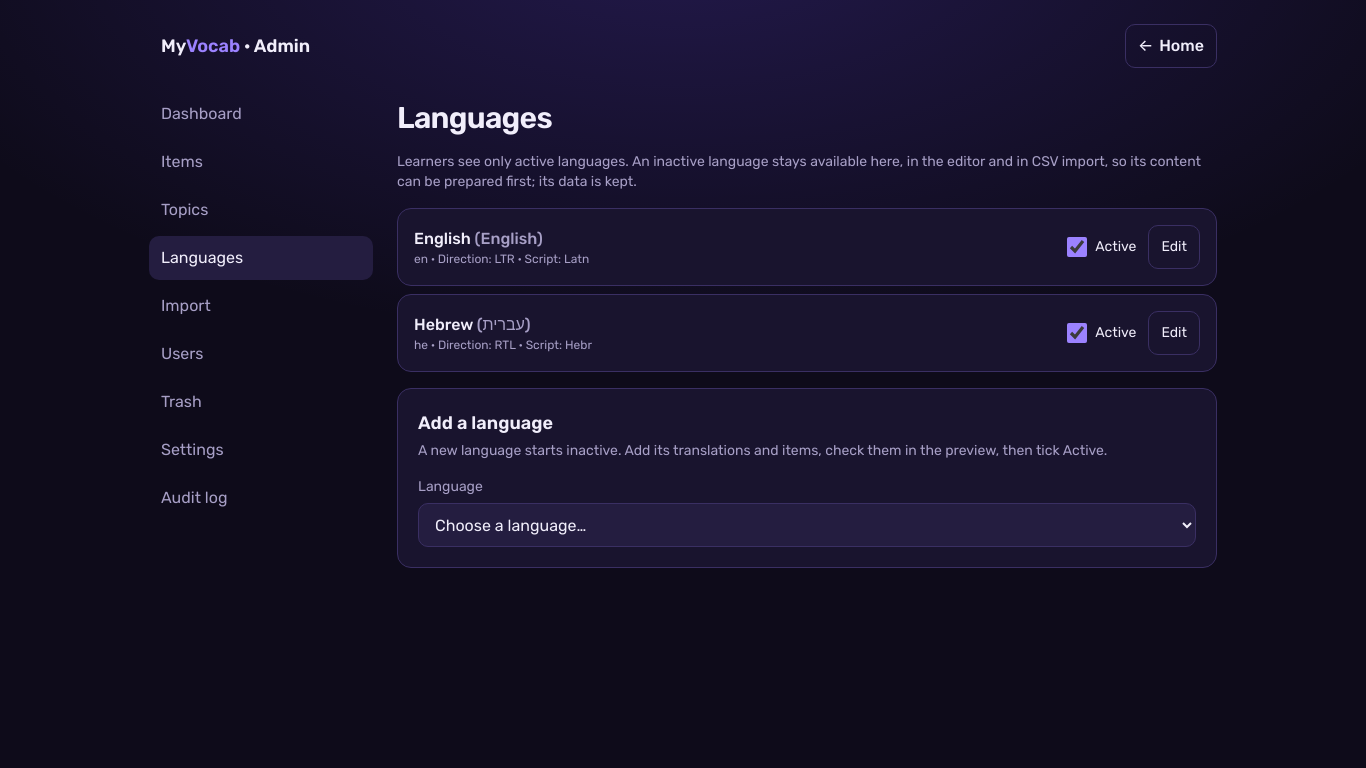
it: LanguagesPage (FR-A35, D-027) › renames a language
Click the button with aria-label "Edit Hebrew" at (1174, 333), box [1148,311,1200,355]
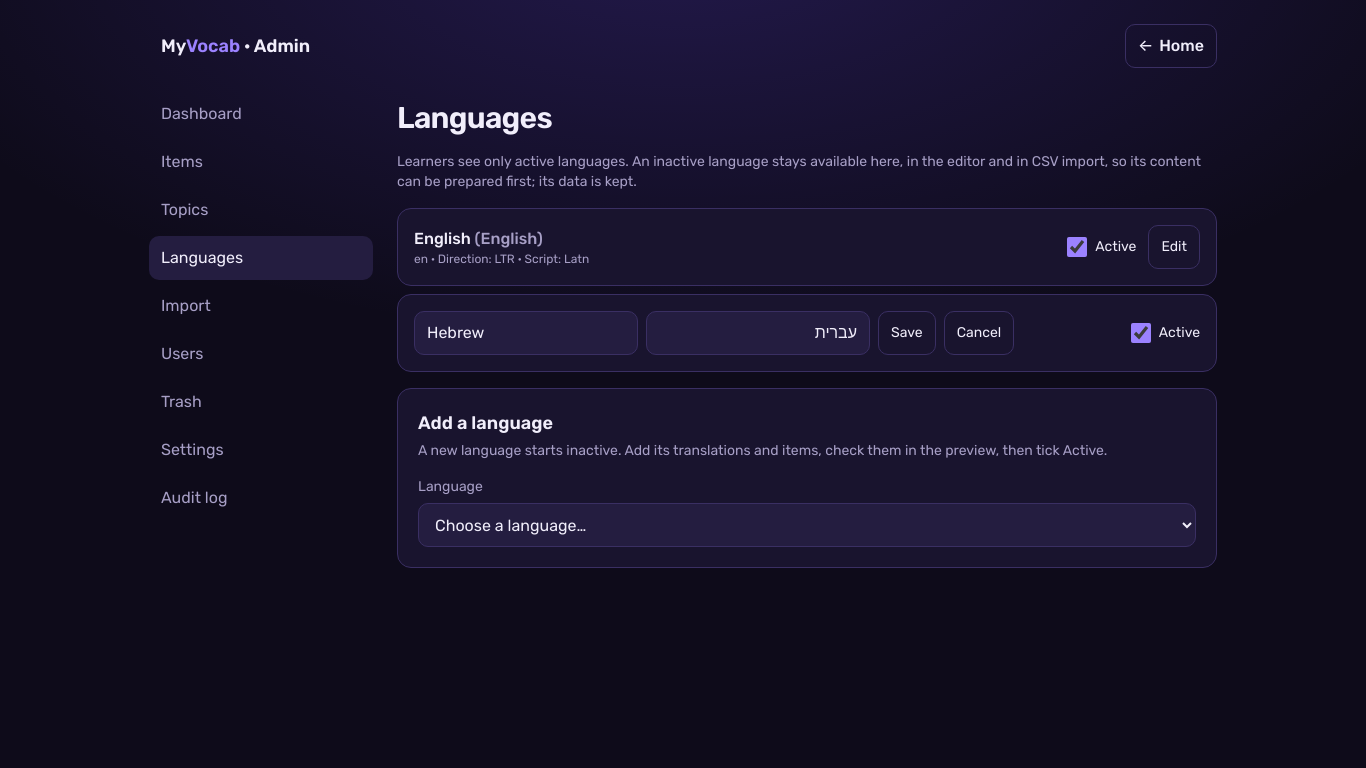
Replace the text in the field named "Name (in English)" with "Modern Hebrew" at (526, 333), box [414,311,638,355]
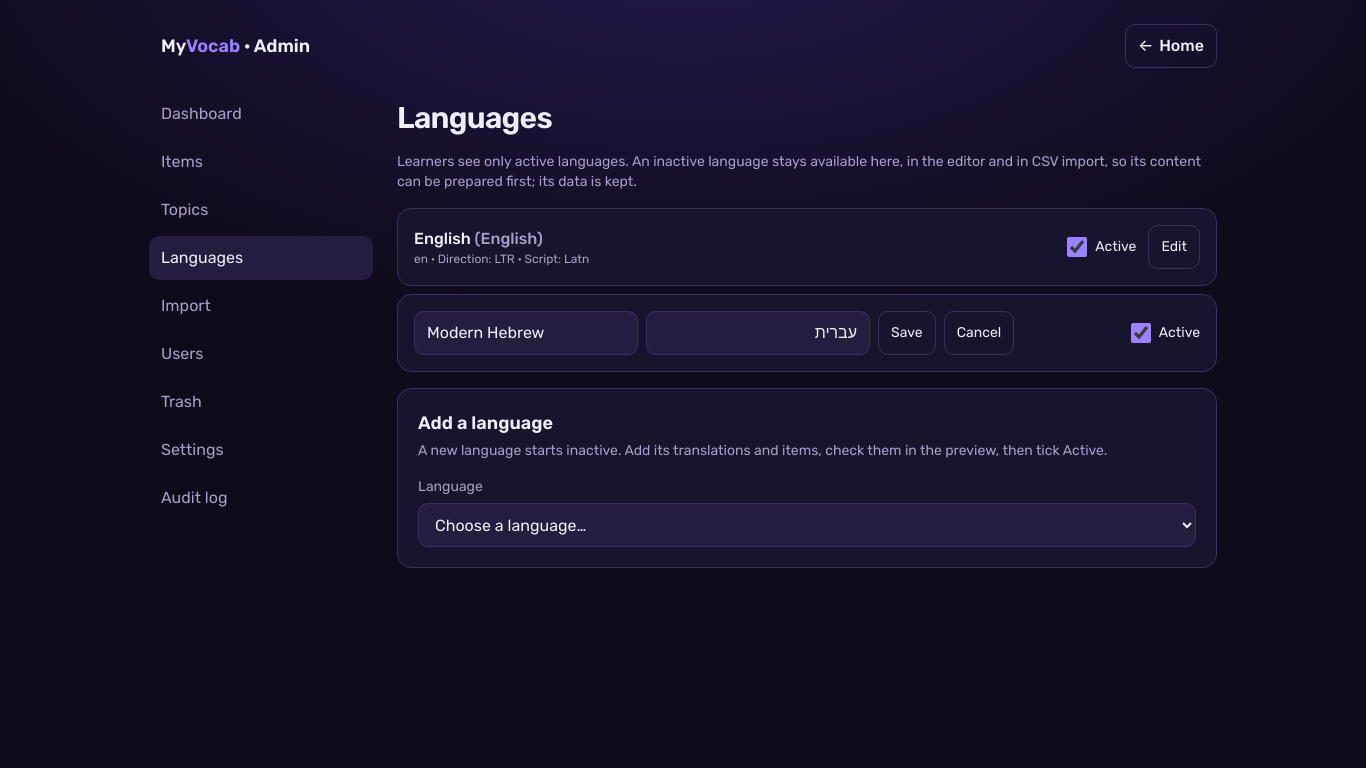
Click the button "Save" at (907, 333), box [878,311,936,355]
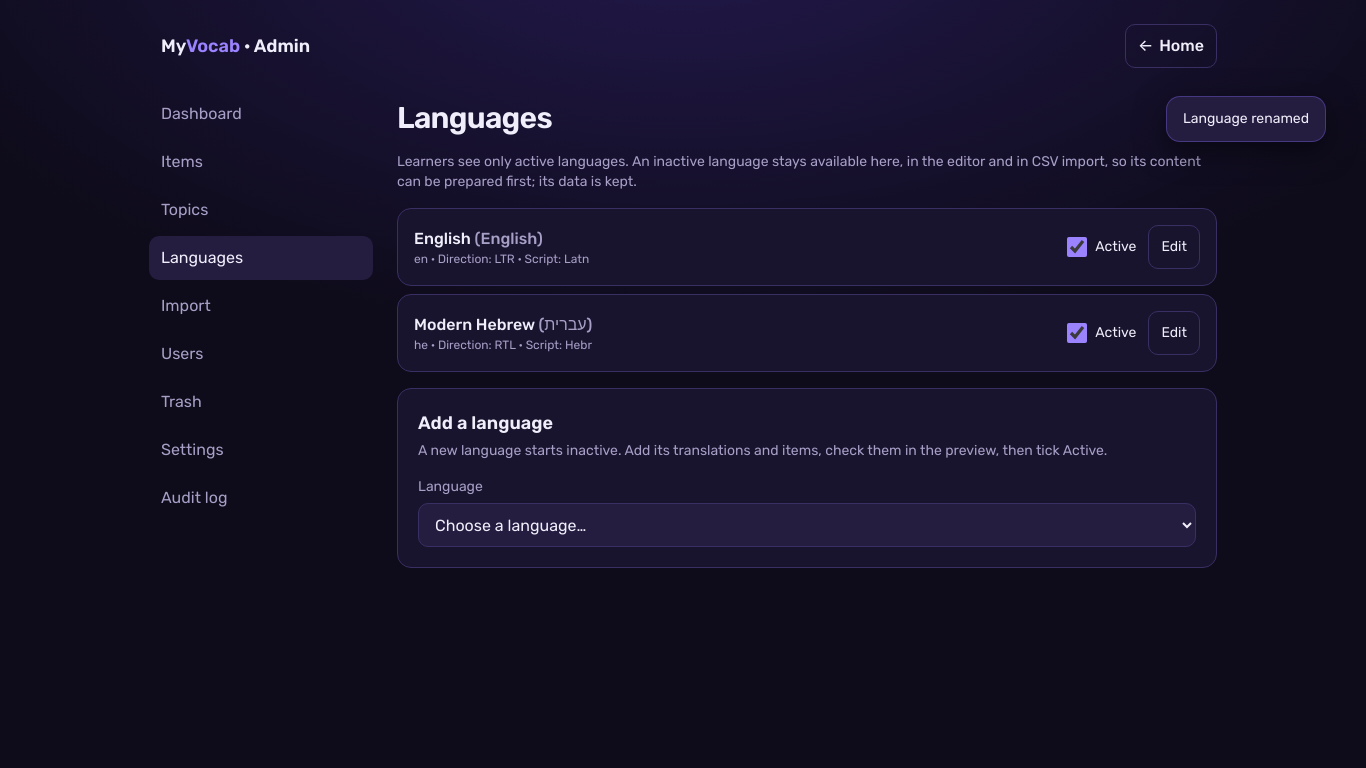
Expected: the text "Modern Hebrew" is shown, [414,315,535,334]
